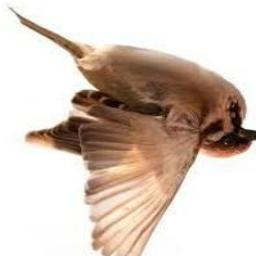Sparrow: (6, 8, 256, 256)
